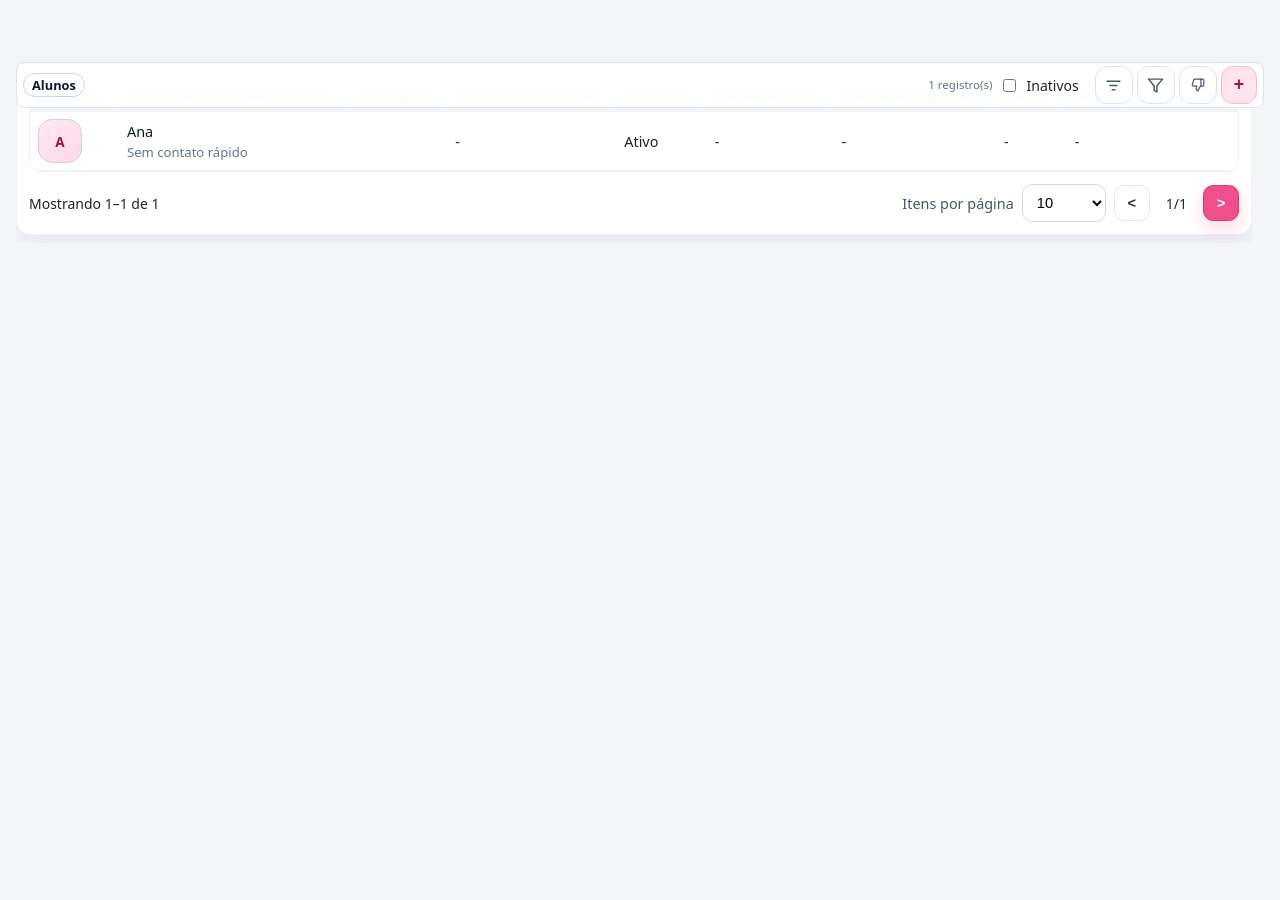
Test case: Regressões visuais de entidades › drawer de alunos aplica filtros no fluxo atributo e valor
The image size is (1280, 900).
Click the button named "Abrir filtros" at (1114, 85), box [1095, 66, 1133, 104]
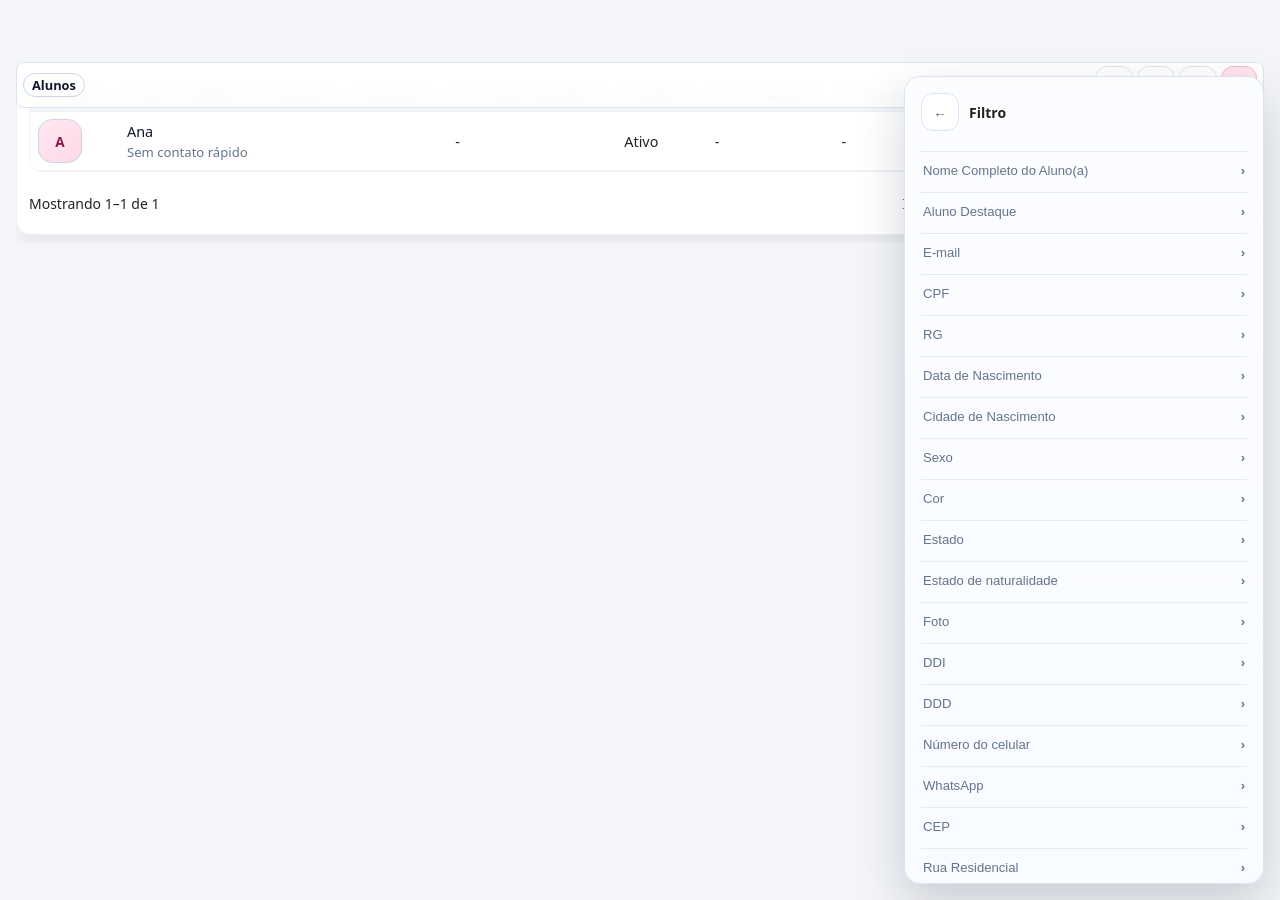
Click the button "Sexo ›" at (938, 458), box [921, 439, 1247, 480]
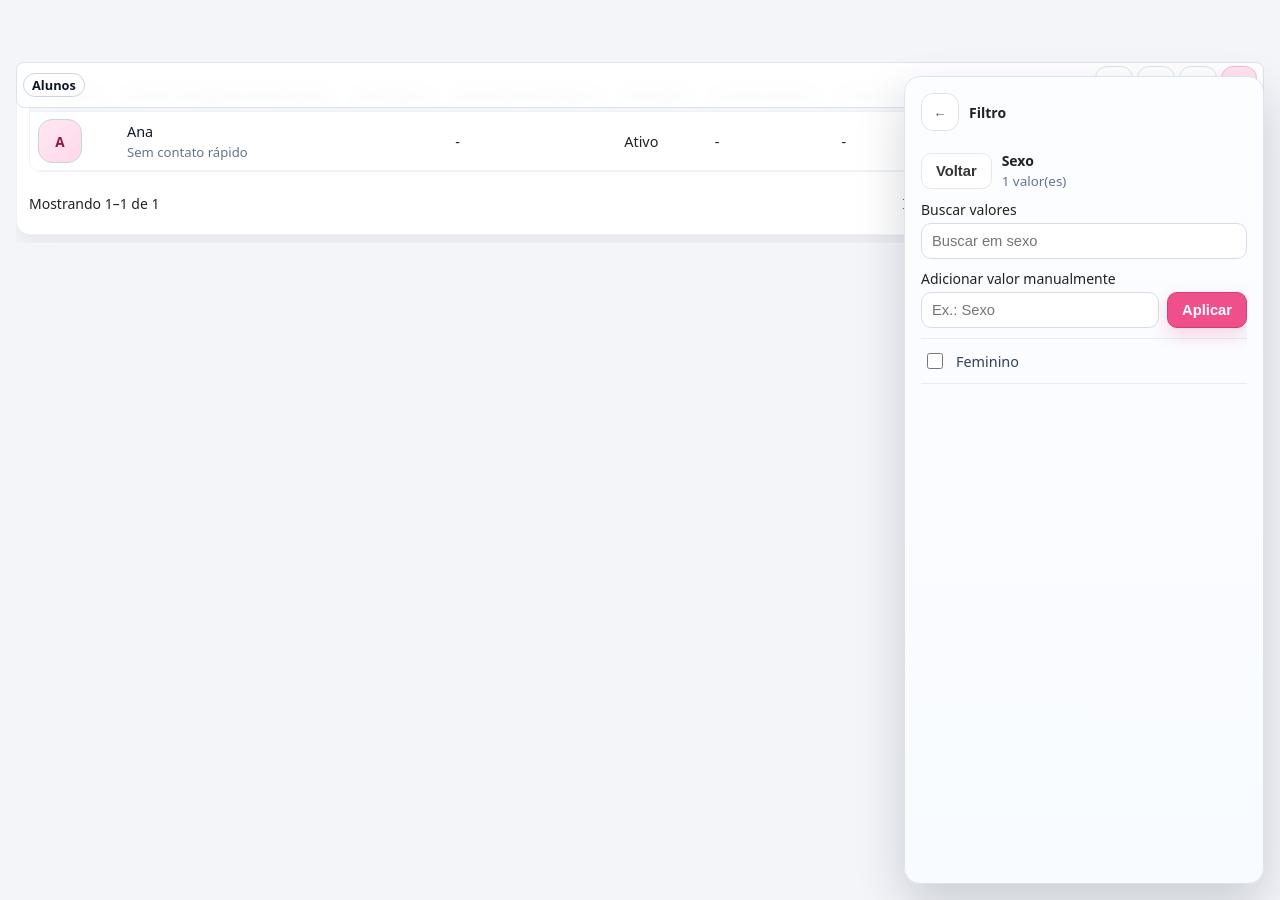
Click the checkbox labelled "Feminino" at (935, 361), box [927, 353, 943, 369]
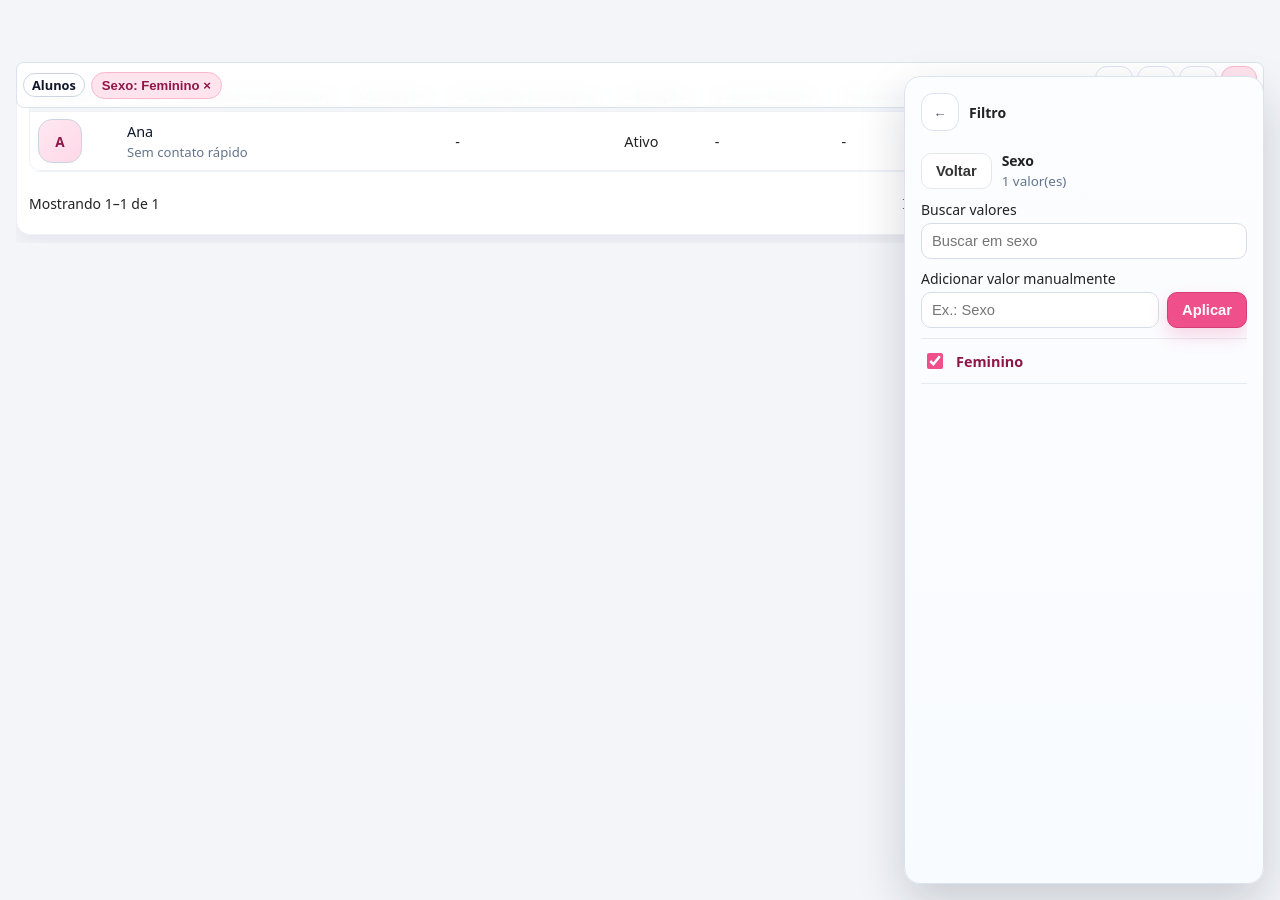
Expected: the button "Sexo: Feminino ×" is shown, [91, 72, 222, 98]
